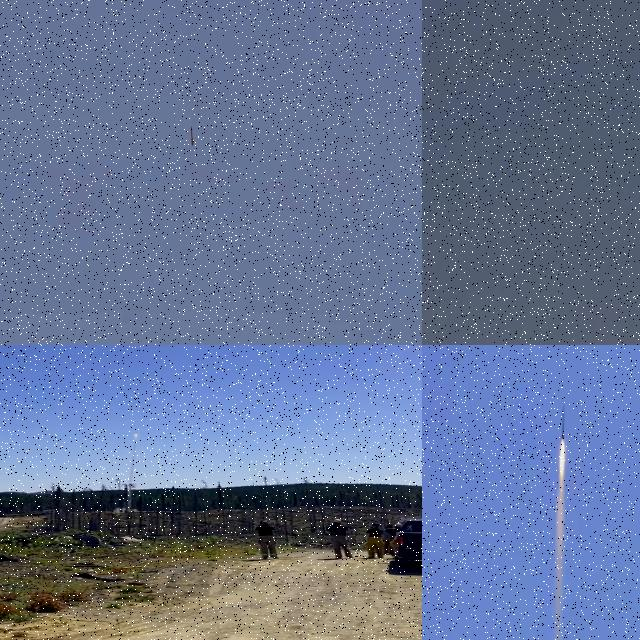Rocket: (561, 402, 565, 440), (191, 126, 194, 146), (135, 432, 139, 434)
